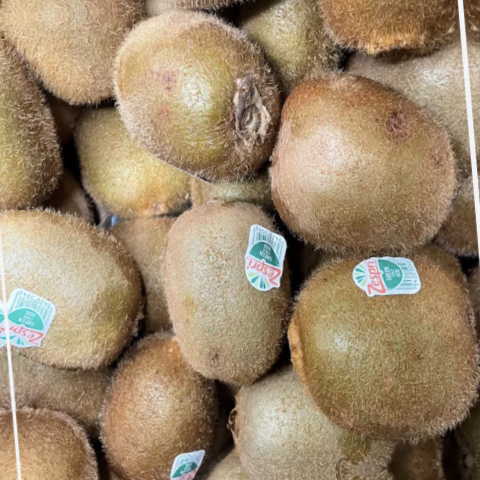kiwi: (242, 62, 468, 284), (264, 225, 480, 452), (80, 0, 321, 187), (136, 174, 305, 398), (0, 194, 150, 398)
